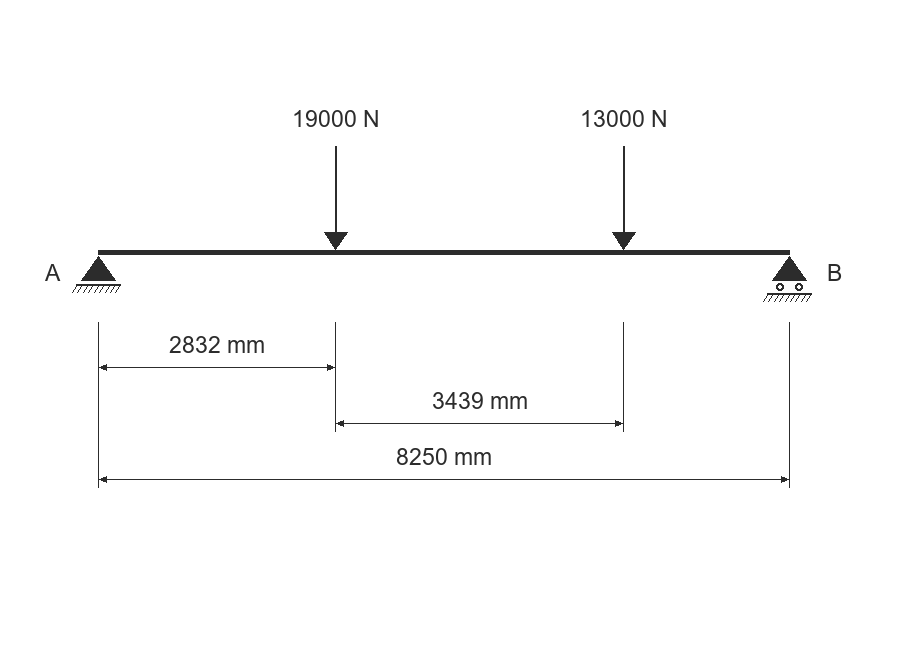pin_support: (72, 256, 121, 293)
point_load: (324, 146, 348, 250), (612, 146, 636, 250)
roller_support: (763, 256, 812, 302)
